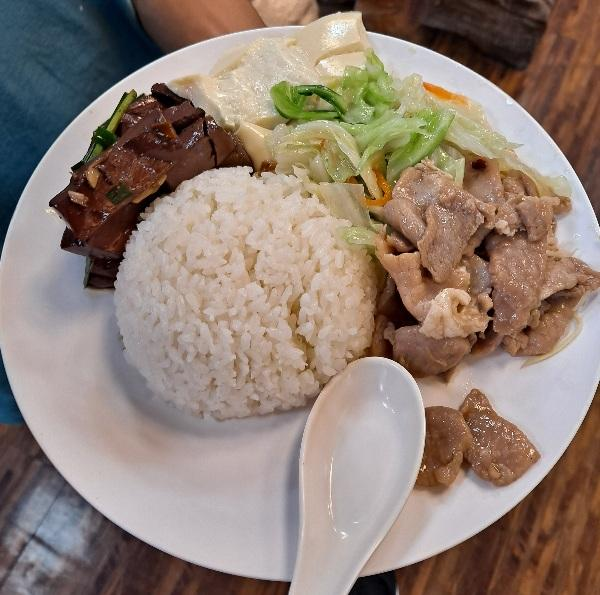big fried chicken leg: (0, 23, 600, 588)
big herbal chicken leg: (112, 169, 372, 425)
braised fish fillet: (60, 69, 240, 288), (268, 70, 524, 190), (184, 14, 375, 123)
braised pork: (382, 164, 590, 499)
